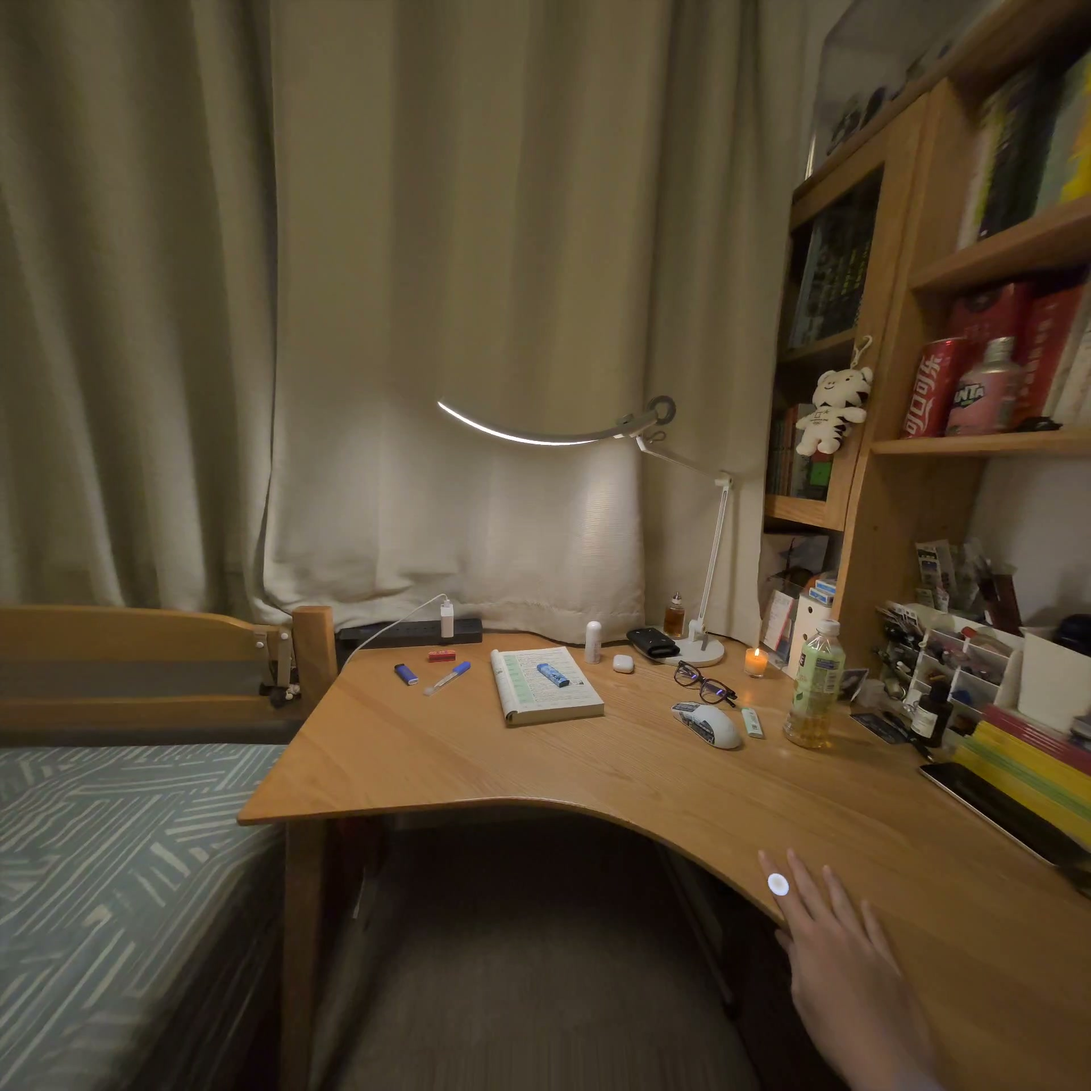lighter: (537, 664, 569, 688)
